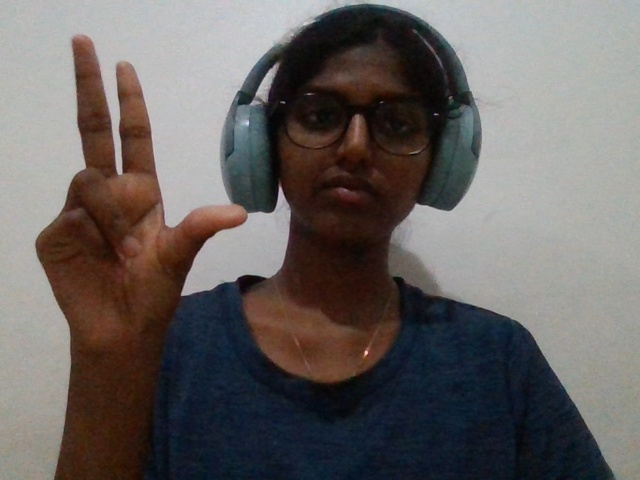No: (9, 23, 253, 377)
